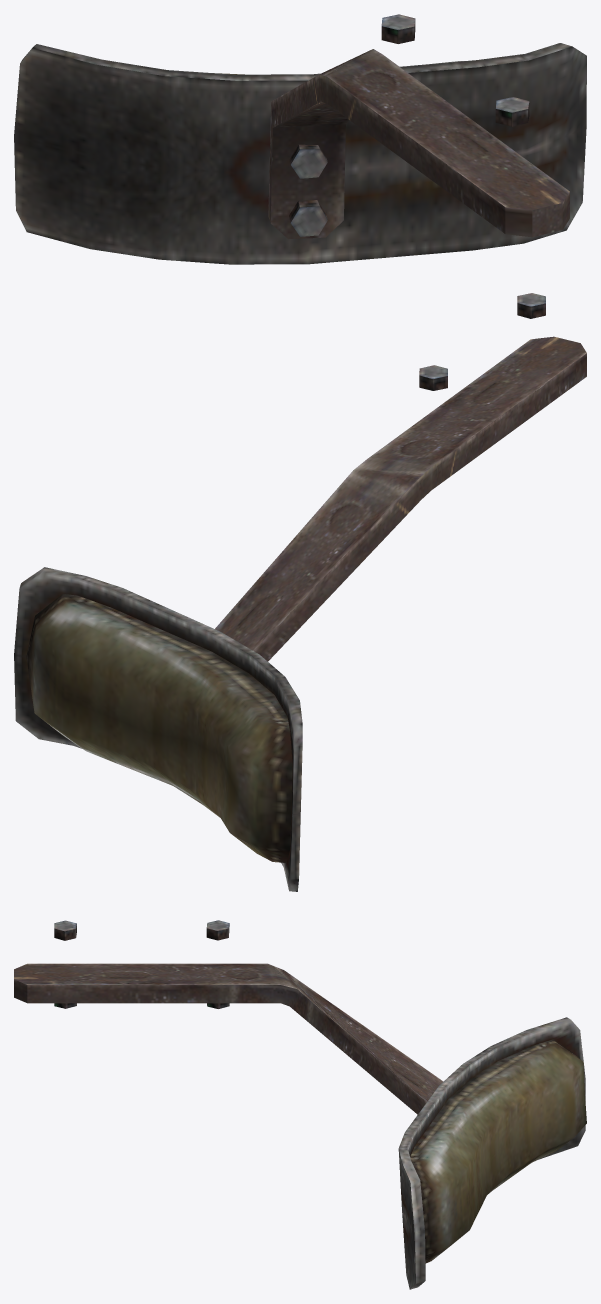
File: butt.obj
3 views of the same model, one above another, from view 1: azimuth 30°, elevation 25°; view 2: azimuth 150°, elevation 25°; view 3: azimuth 270°, elevation 25° (orthographic). The views are drawn at different scales.
Visible parts, largest first — view 1: wpn34_preved, wpn34_gatling; view 2: wpn34_preved, wpn34_gatling; view 3: wpn34_preved, wpn34_gatling.
Part boxes in pixels (x1=…): wpn34_preved: x1=14, y1=43, x2=586, y2=264; wpn34_gatling: x1=268, y1=14, x2=569, y2=239; wpn34_preved: x1=14, y1=567, x2=302, y2=891; wpn34_gatling: x1=215, y1=293, x2=586, y2=661; wpn34_preved: x1=398, y1=1017, x2=586, y2=1289; wpn34_gatling: x1=14, y1=920, x2=443, y2=1114.
Bounding box in the file's own units: 0.1846 × 0.1522 × 0.3018.
Materials: 2 (2 with a texture image).
